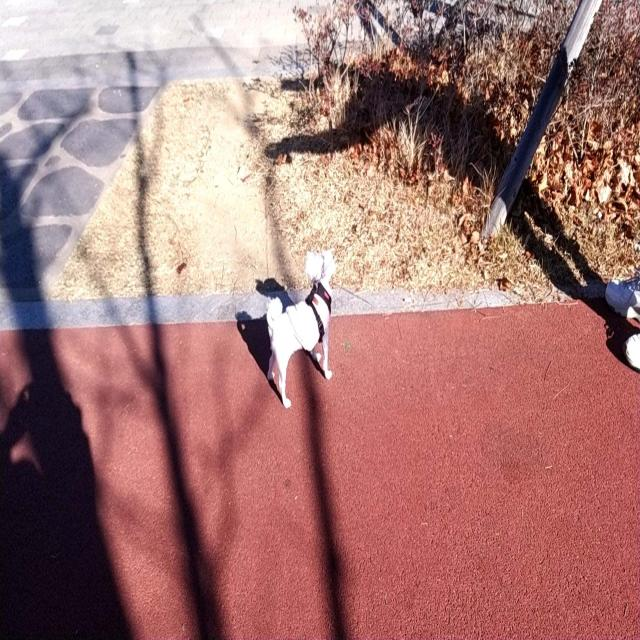Dog: (266, 249, 338, 409)
